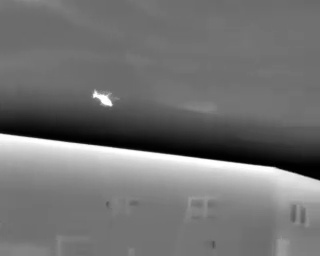HELICOPTER: (89, 85, 124, 114)
